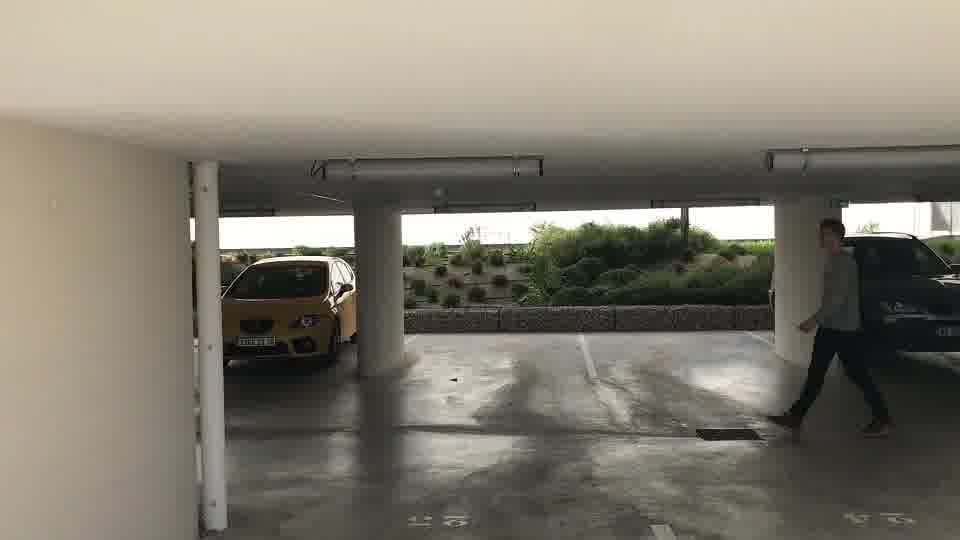jugador: (761, 217, 894, 442)
